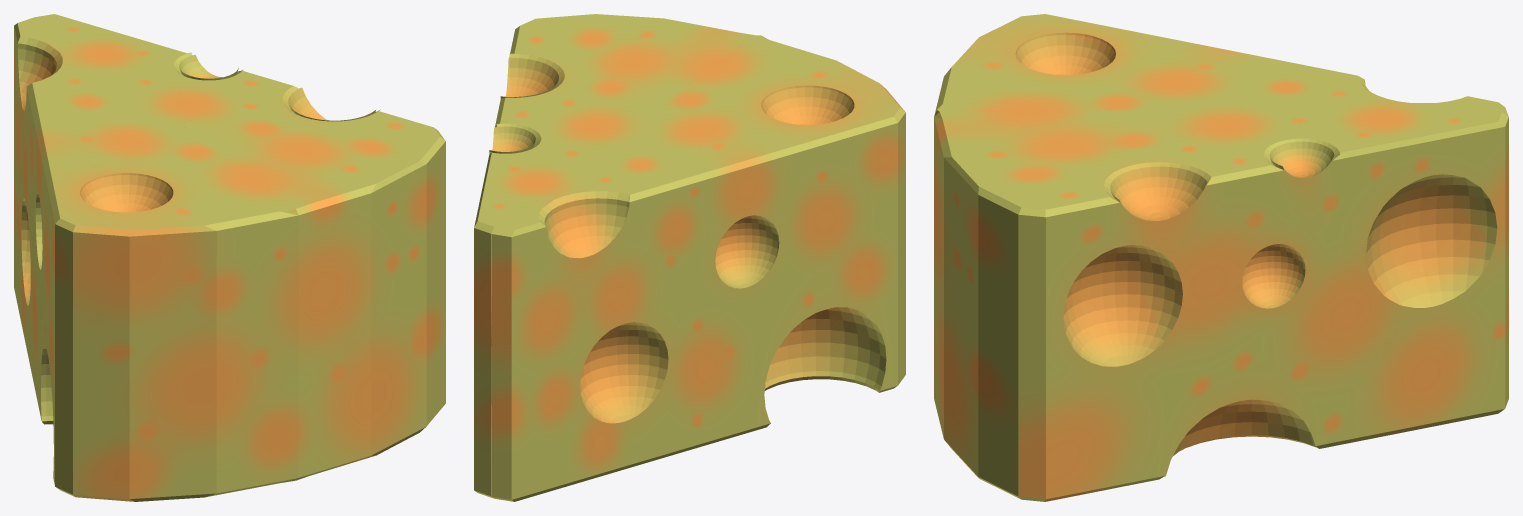
File: cheese.glb
3 renders of one model, left to right at view 1: azimuth 30°, elevation 25°; view 2: azimuth 150°, elevation 25°; view 3: azimuth 270°, elevation 25°, orthographic. The views are drawn at different scales.
Parts seen in each view (by area): view 1: Plane; view 2: Plane; view 3: Plane.
Part boxes in pixels (bbox=[...]): Plane: bbox=[14, 14, 445, 501]; Plane: bbox=[474, 14, 905, 501]; Plane: bbox=[934, 14, 1508, 501].
Bounding box in the file's own units: 2.95 × 2 × 3.57.
1 material, 1 textured.
